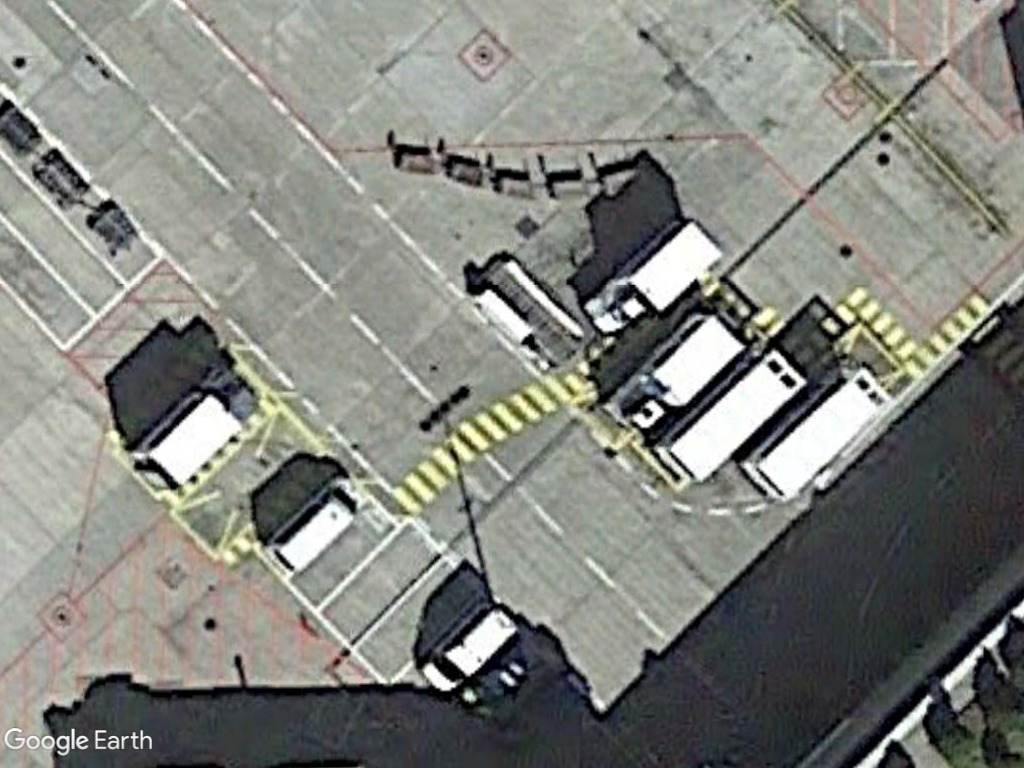longvehicle: (655, 344, 818, 485), (743, 361, 897, 501)
truck: (616, 306, 749, 431), (588, 218, 728, 334)
van: (264, 474, 367, 579), (418, 604, 522, 700)
